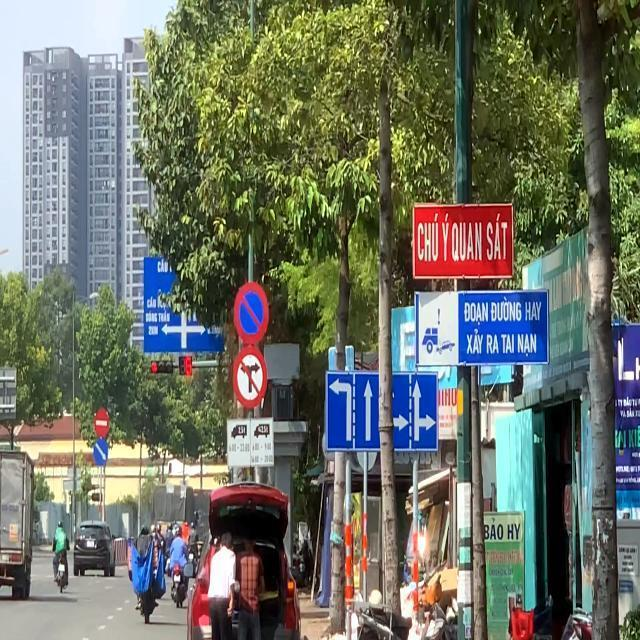102-cam-di-nguoc-chieu: (95, 407, 109, 437)
131a-cam-do-xe: (234, 281, 270, 343)
137-cam-re-trai-va-re-phai: (231, 348, 269, 408)
302a-huong-phai-di-vong-chuong-ngai-vat-1: (94, 440, 110, 464)
